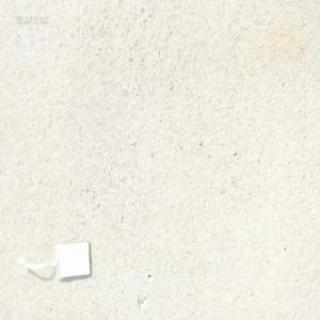LuggageTagtrack_idkeyframe: (15, 238, 93, 282)
